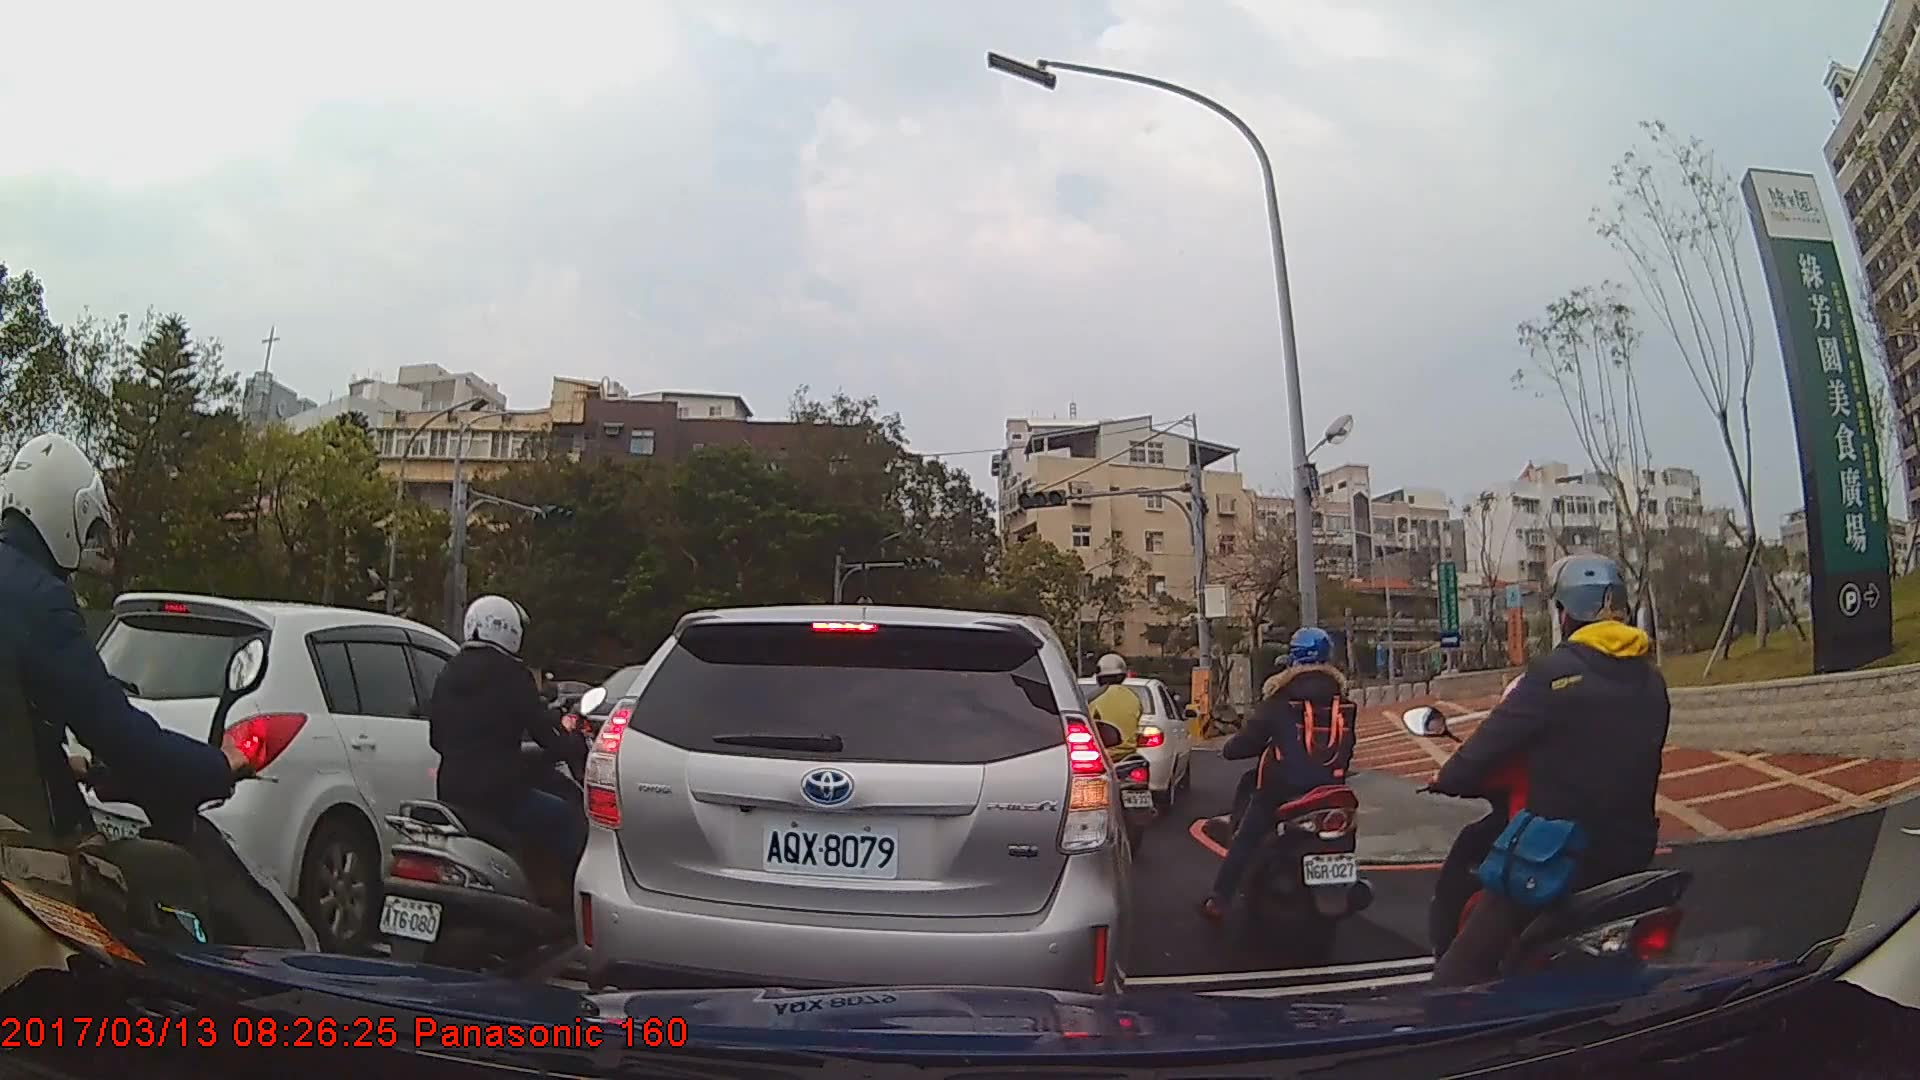rider: (1, 434, 335, 1074), (1409, 555, 1700, 1044), (375, 594, 623, 986), (1193, 621, 1387, 961), (1062, 652, 1156, 851)
vehicle: (568, 601, 1139, 1033), (41, 591, 572, 931)
